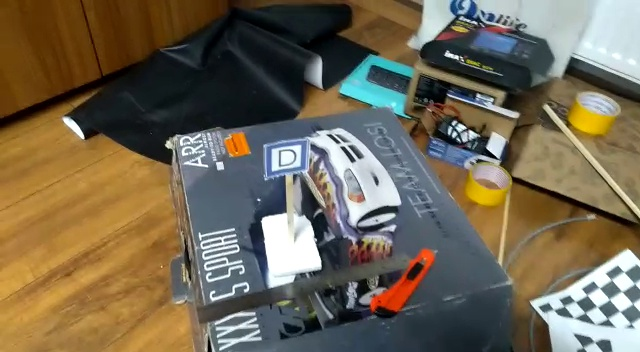durak: (261, 138, 306, 174)
